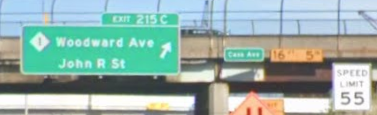1: (271, 49, 278, 61)
5: (303, 49, 315, 62)
6: (276, 49, 287, 62)
overheadsign: (269, 48, 324, 63)
